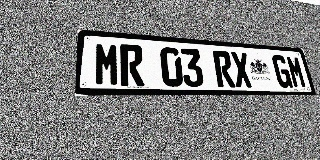0: (159, 47, 184, 87)
3: (180, 48, 204, 87)
G: (271, 54, 293, 88)
M: (94, 42, 120, 86), (285, 55, 307, 88)
R: (120, 44, 144, 86), (212, 50, 236, 87)
X: (230, 52, 253, 87)
